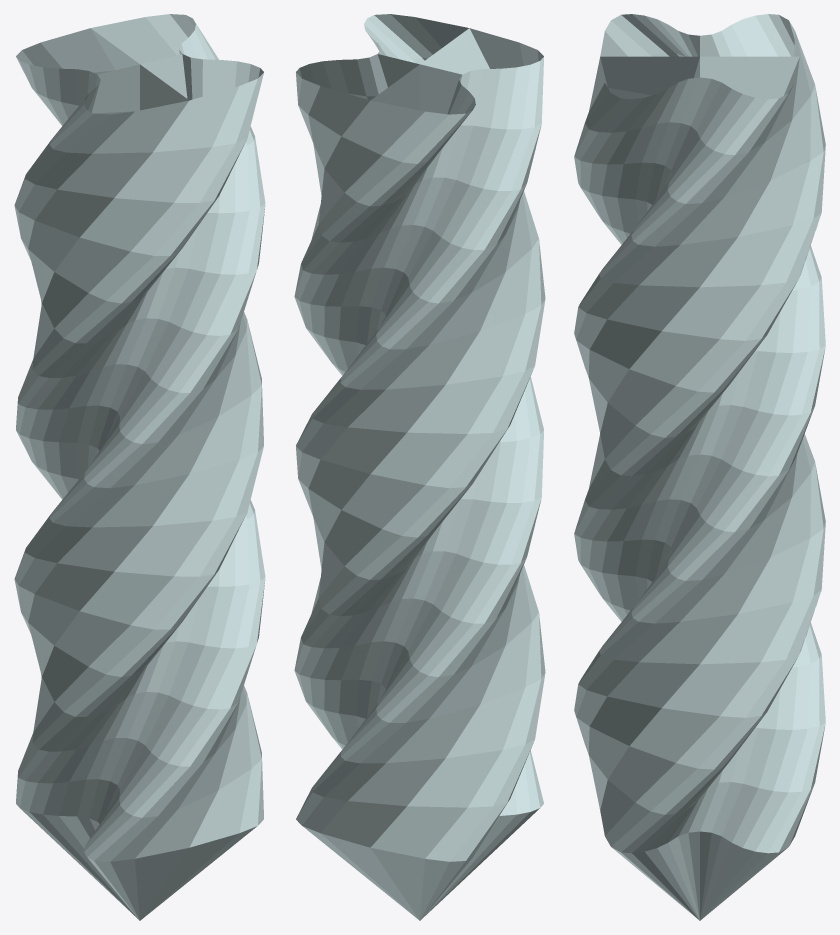
The model's file is ドリル2.fbx.
3 renders of one model, left to right at view 1: azimuth 30°, elevation 25°; view 2: azimuth 150°, elevation 25°; view 3: azimuth 270°, elevation 25°, orthographic.
Parts seen in each view (by area): view 1: Plane, Plane.001; view 2: Plane, Plane.001; view 3: Plane, Plane.001.
Part boxes in pixels (<box>): Plane: <box>14,14,265,861</box>; Plane.001: <box>20,808,257,920</box>; Plane: <box>294,14,545,861</box>; Plane.001: <box>302,808,539,920</box>; Plane: <box>574,14,825,853</box>; Plane.001: <box>612,831,787,920</box>.
Size of the model in its own units: 2.72 by 10.32 by 2.72.
